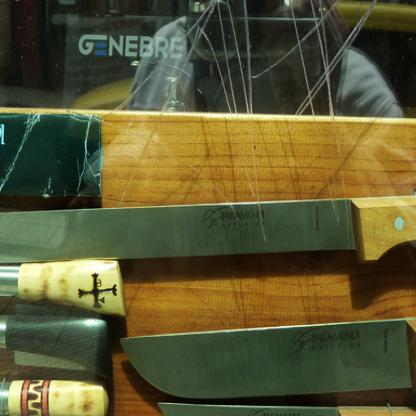knife: (0, 179, 415, 262), (118, 304, 415, 396), (0, 252, 126, 316), (0, 315, 119, 377), (0, 378, 109, 415)
